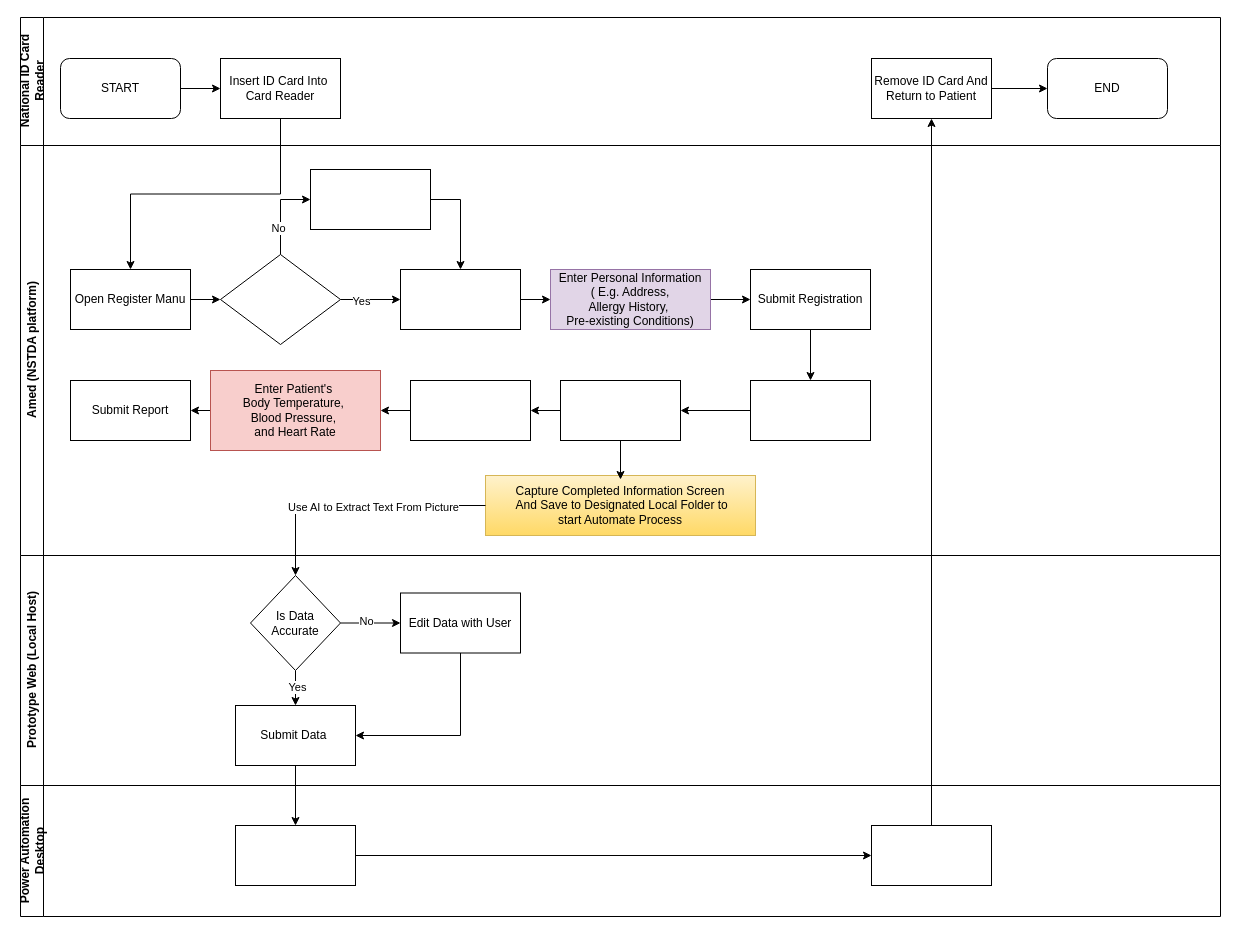
The diagram is 1238 pixels wide and 934 high, and some of its shapes have lost their labels. The centre of each missing label's shape, as x and y in pixels:
Click Gear Icon to Verify Data: pixel 810 410
Click to Fill Data To Database: pixel 295 855
Click Verify Medical Eligibility Button: pixel 460 299
Enter HN Number, and Save Setting: pixel 620 410
Is Data From ID Card Display: pixel 280 299
Open Daily Report Page: pixel 470 410
Patient Added to Doctor Queue: pixel 931 855
Press Bottom Left Button to Retry ID Card Reading: pixel 370 199
